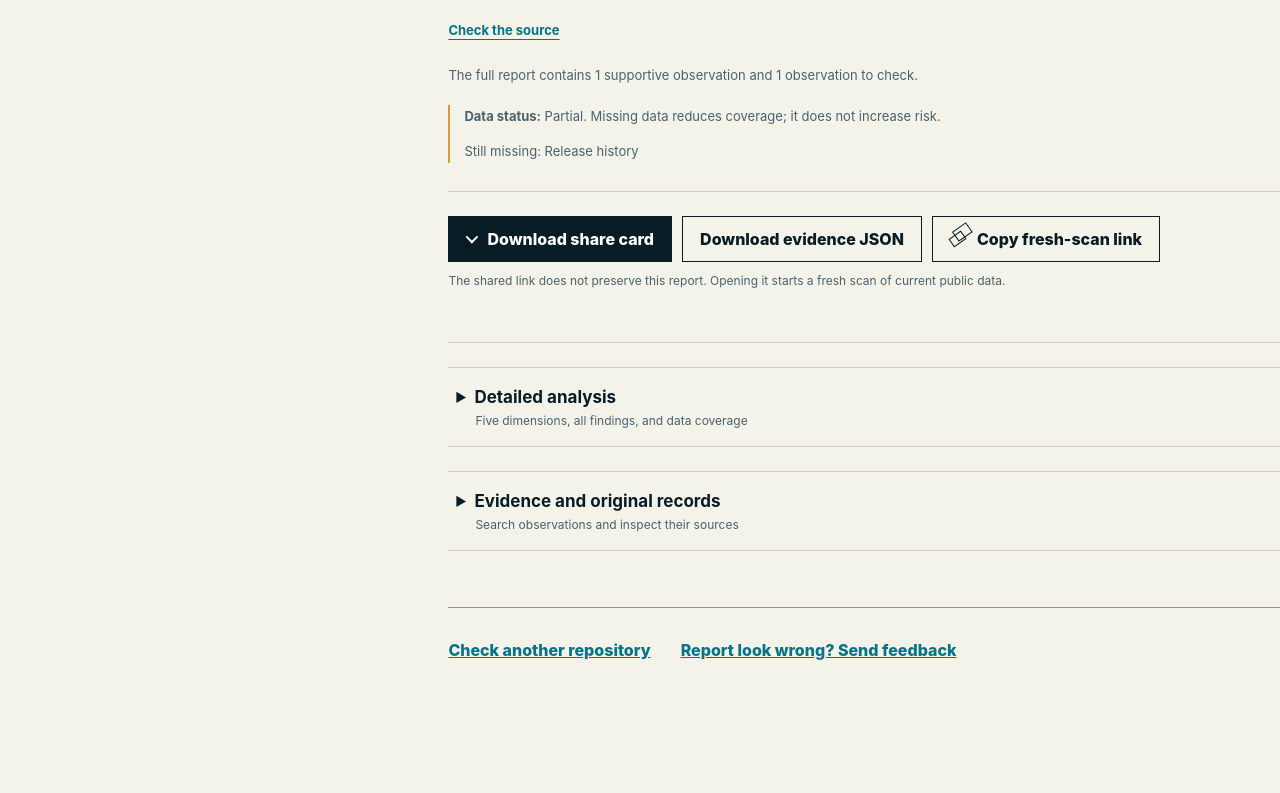
Test: ReportPage › explains risk direction and offers bounded public feedback without raw evidence
(page scrolled)
Click the heading that starts with "Detailed analysis" at (611, 407), box [474,387,748,428]
(page scrolled)
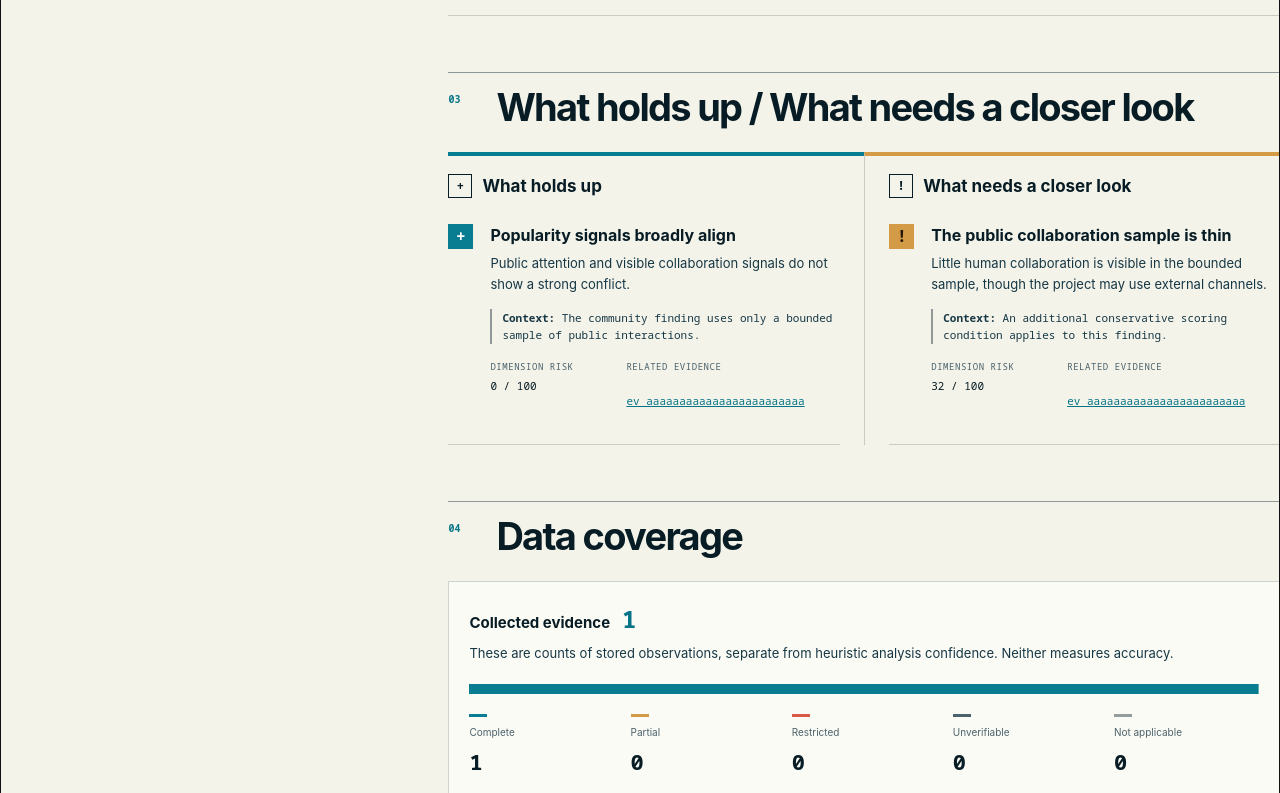
Now the 1st text "ev_aaaaaaaaaaaaaaaaaaaaaaaa" is shown, box [626,392,805,408]
